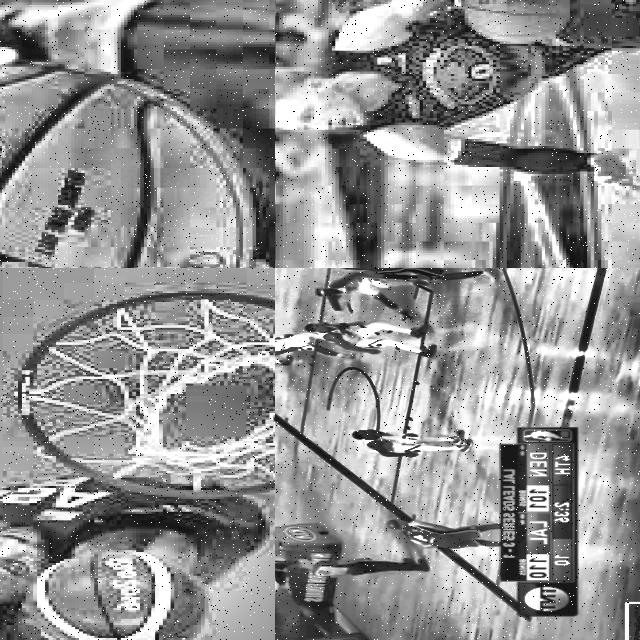Basketball: (0, 61, 254, 268), (26, 551, 209, 640), (461, 0, 570, 43)
